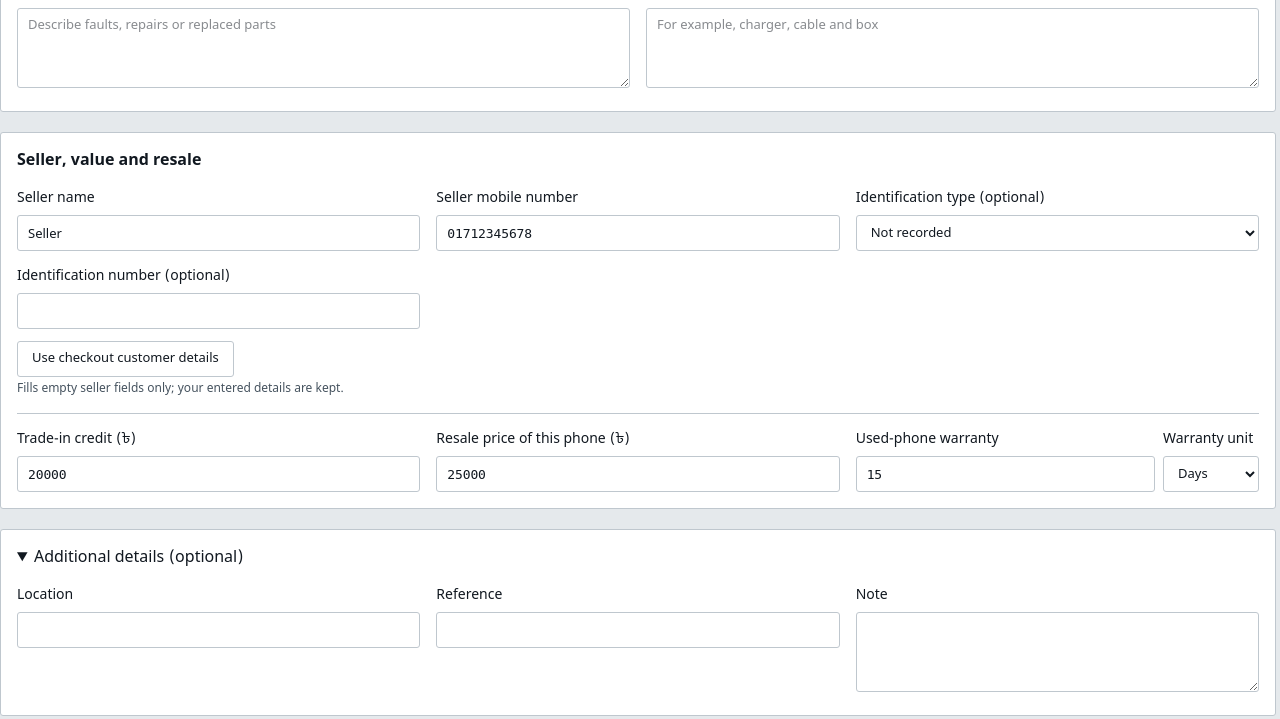
Test case: shared intake and checkout panel interactions › fills empty seller fields explicitly without overwriting existing details
(page scrolled)
Click the button "Use checkout customer details" at (125, 359), box [17,341,234,377]
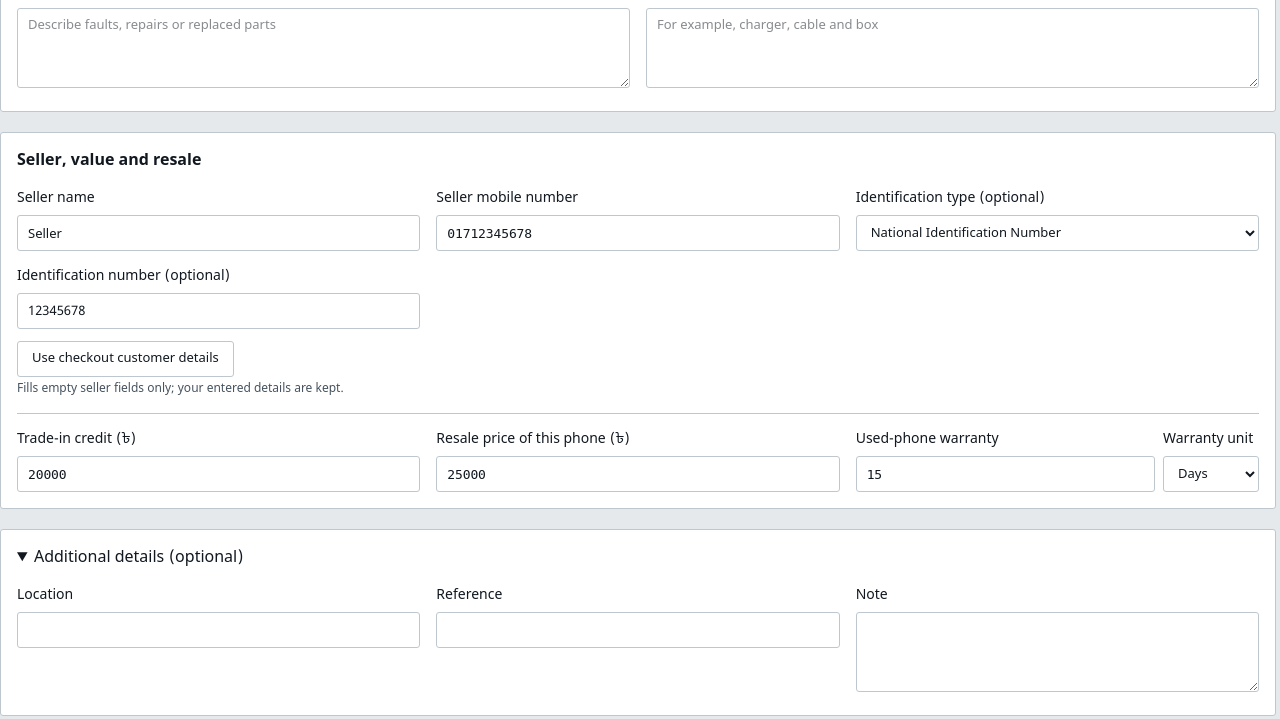
Check: the field named "sellerName" holds "Seller", box [17,215,420,251]
Check: the field named "identificationNumber" holds "12345678", box [17,293,420,329]
